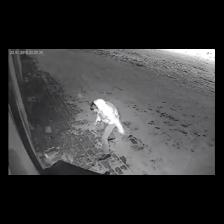person: (91, 99, 125, 160)
